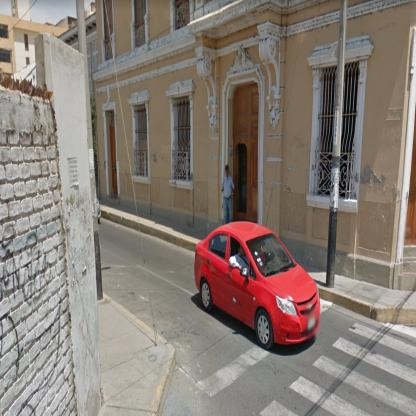Peaton: (222, 163, 237, 226)
Pista: (100, 218, 416, 415)
Vehiculo: (195, 222, 322, 350)
